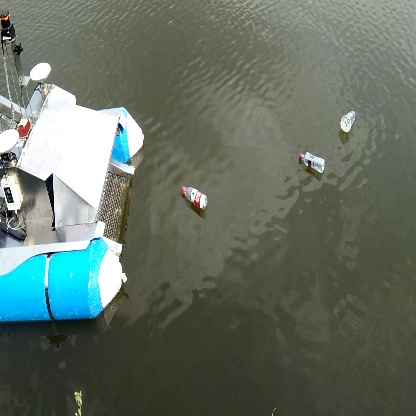bottle: (178, 185, 211, 214), (297, 147, 328, 175), (337, 106, 360, 137)
